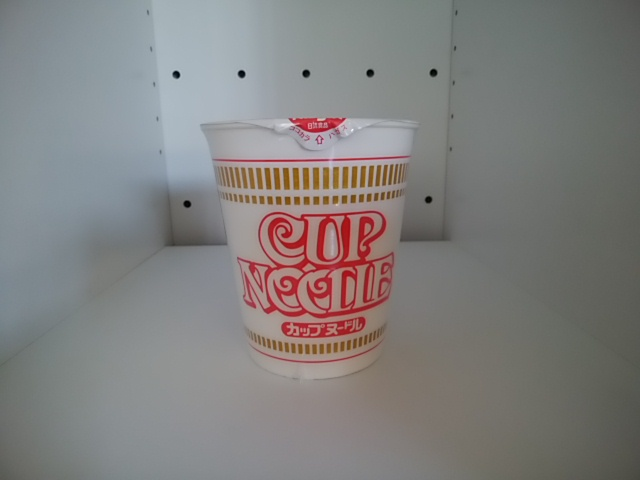cup-ramen: (193, 109, 422, 386)
